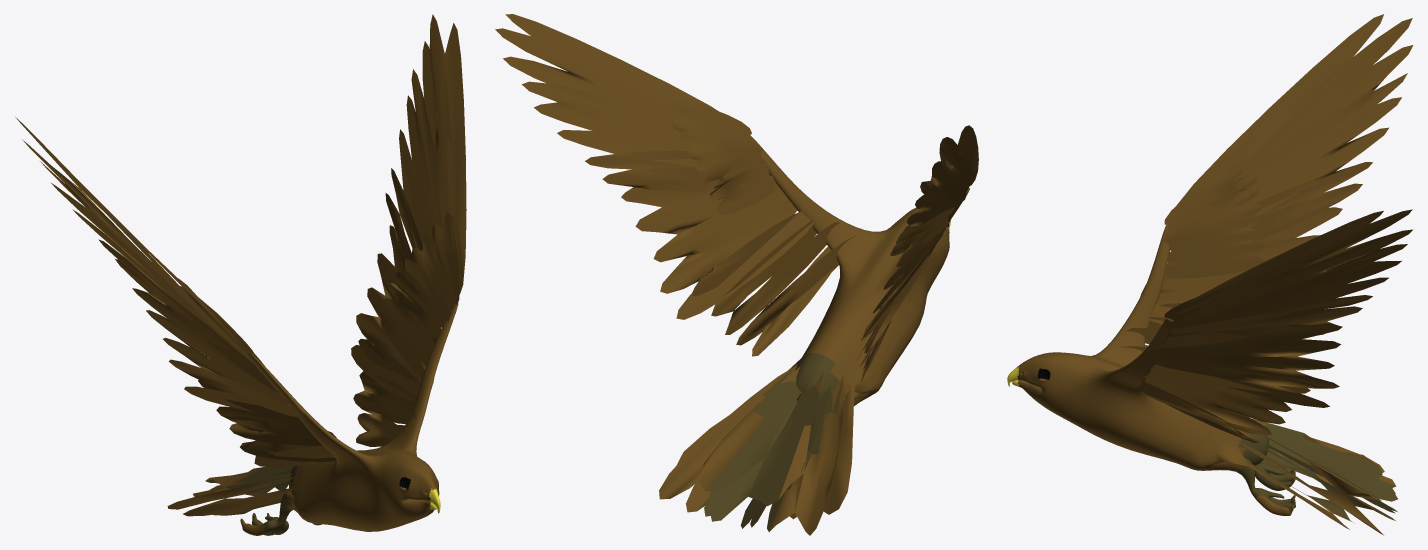
Rendered from falconcloured.gltf.
3 views of the same model, side by side, from view 1: azimuth 30°, elevation 25°; view 2: azimuth 150°, elevation 25°; view 3: azimuth 270°, elevation 25° (orthographic). The views are drawn at different scales.
Visible parts, largest first — view 1: falcon.001; view 2: falcon.001; view 3: falcon.001.
Boxes of the visible parts, left/top/right/bottom form: falcon.001: left=15, top=14, right=466, bottom=535; falcon.001: left=495, top=14, right=978, bottom=535; falcon.001: left=1007, top=14, right=1413, bottom=535.
Size of the model in its own units: 2.75 by 2.57 by 2.4.
